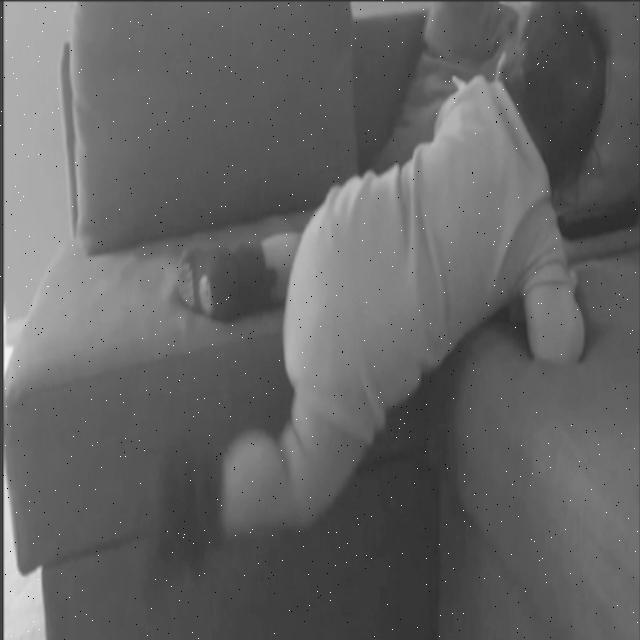child: (180, 6, 597, 541)
